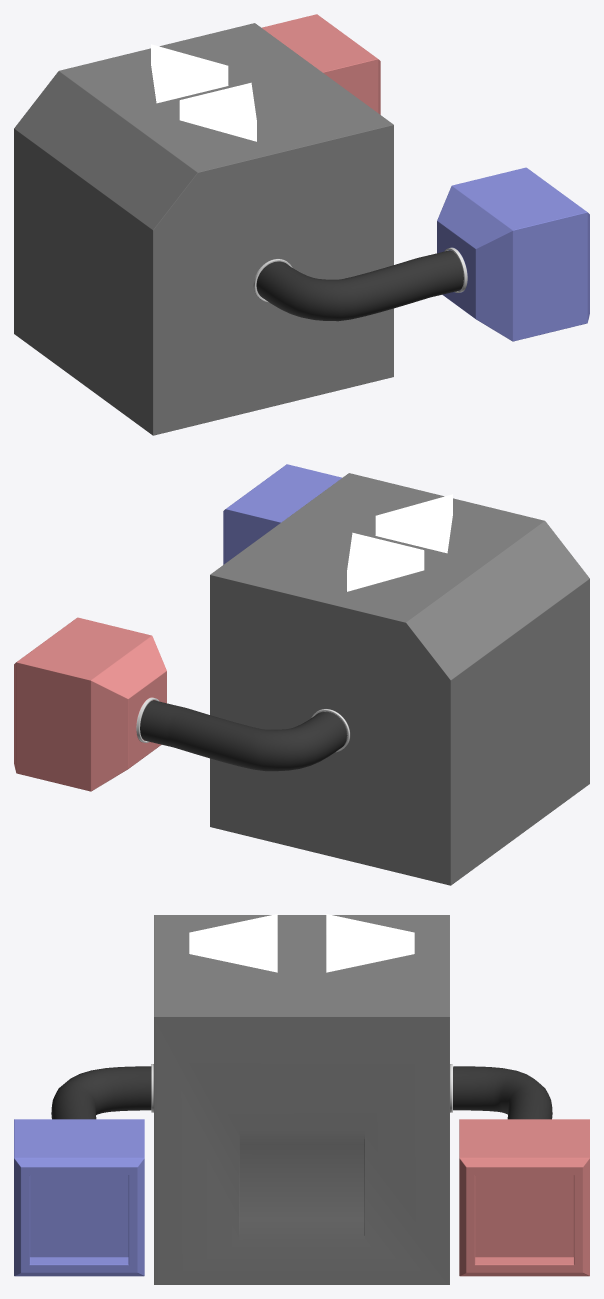
The model's file is player.glb.
3 views of the same model, one above another, from view 1: azimuth 30°, elevation 25°; view 2: azimuth 150°, elevation 25°; view 3: azimuth 270°, elevation 25° (orthographic). The views are drawn at different scales.
Parts seen in each view (by area): view 1: Main Body, Magnet Cube 1, BezierCurve 1, Magnet Cube 2; view 2: Main Body, Magnet Cube 2, BezierCurve 2, Magnet Cube 1; view 3: Main Body, Magnet Cube 1, Magnet Cube 2, BezierCurve 1, BezierCurve 2.
Part boxes in pixels (box(x1,y1,x2,y2)): Main Body: box(14, 23, 393, 435); Magnet Cube 1: box(437, 167, 589, 341); BezierCurve 1: box(256, 250, 463, 321); Magnet Cube 2: box(262, 14, 380, 114); Main Body: box(210, 473, 589, 885); Magnet Cube 2: box(14, 617, 166, 791); BezierCurve 2: box(140, 700, 346, 771); Magnet Cube 1: box(223, 464, 341, 564); Main Body: box(151, 914, 452, 1284); Magnet Cube 1: box(14, 1119, 144, 1276); Magnet Cube 2: box(459, 1119, 589, 1276); BezierCurve 1: box(51, 1066, 151, 1119); BezierCurve 2: box(453, 1066, 552, 1119).
Bounding box in the file's own units: 3.11 × 2.16 × 3.89.
